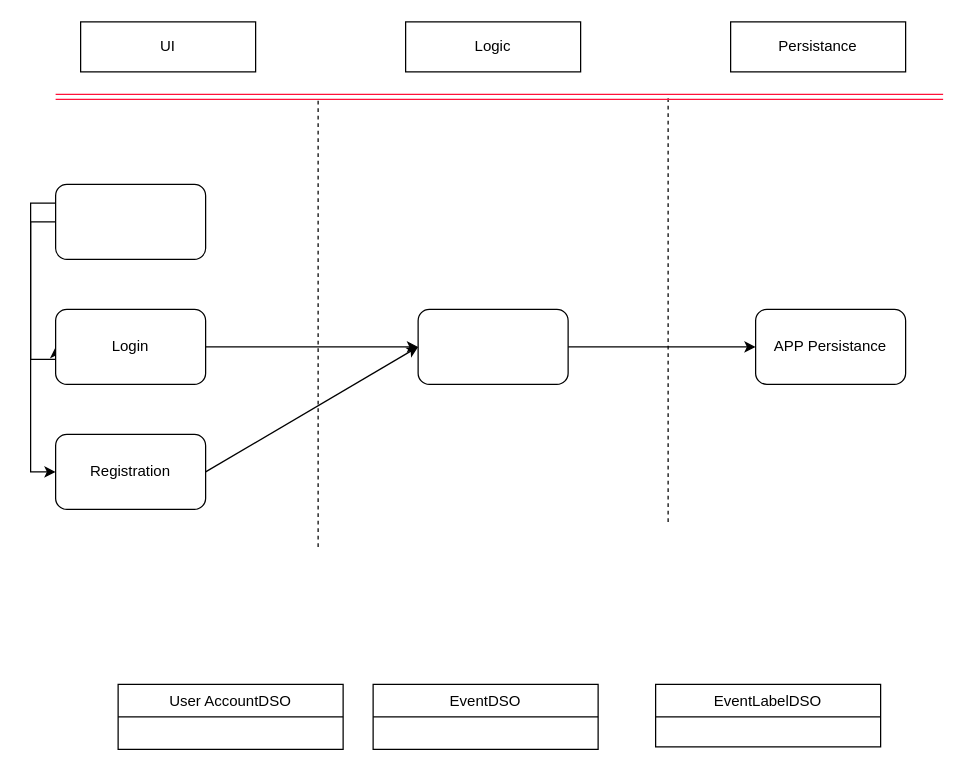
Some shapes in this 965 by 771 pixel diagram are drawn without their labels. Each missing label, with the centre of its shape:
"HomePage" belongs at (x=130, y=221).
"User Account Handle" belongs at (x=492, y=346).
